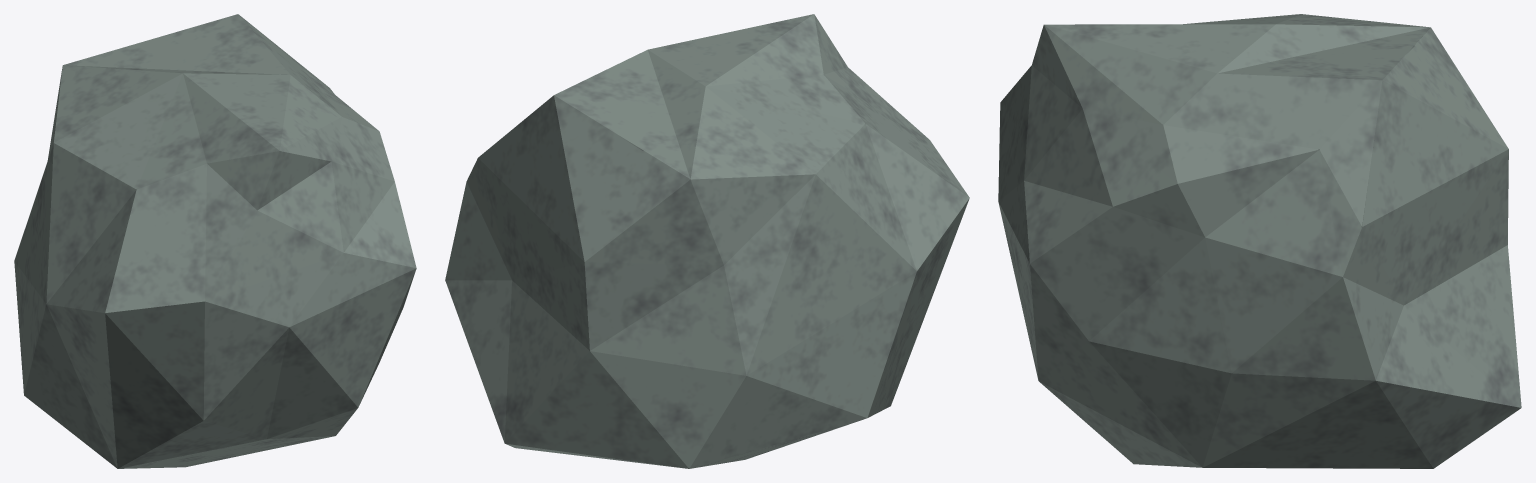
Rendered from silver_ore.fbx.
3 renders of one model, left to right at view 1: azimuth 30°, elevation 25°; view 2: azimuth 150°, elevation 25°; view 3: azimuth 270°, elevation 25°, orthographic. The views are drawn at different scales.
Parts seen in each view (by area): view 1: silver_ore; view 2: silver_ore; view 3: silver_ore.
Part boxes in pixels (left/top/right/bottom): silver_ore: left=14, top=14, right=416, bottom=468; silver_ore: left=445, top=14, right=969, bottom=468; silver_ore: left=998, top=14, right=1521, bottom=468.
Size of the model in its own units: 18.18 by 17.08 by 18.83.
1 material, 1 textured.
